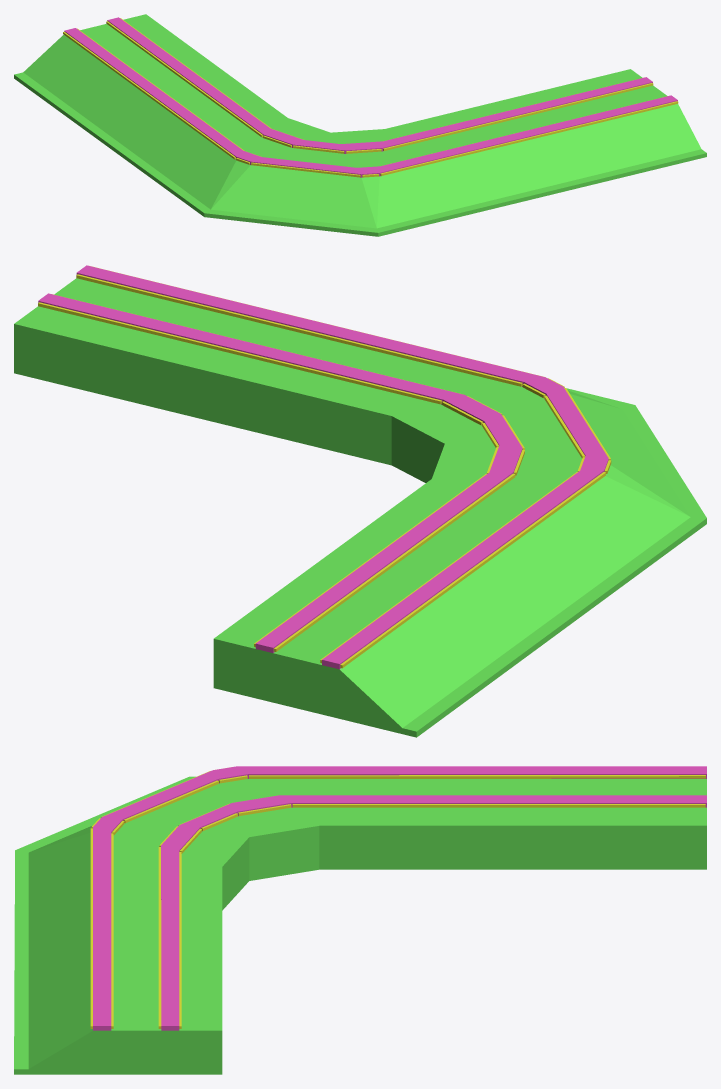
Rendered from Interior_Deco_01_Corner.fbx.
The picture shows the model from 3 angles, top to bottom: view 1: azimuth 30°, elevation 25°; view 2: azimuth 150°, elevation 25°; view 3: azimuth 270°, elevation 25°; orthographic projection. The views are drawn at different scales.
Visible parts, largest first — view 1: Interior_Deco_01_Corner; view 2: Interior_Deco_01_Corner; view 3: Interior_Deco_01_Corner.
Part boxes in pixels (box(x1,y1,x2,y2)): Interior_Deco_01_Corner: box(14, 14, 706, 236); Interior_Deco_01_Corner: box(14, 265, 706, 737); Interior_Deco_01_Corner: box(14, 766, 706, 1074).
Size of what is drawn, in the model's own units: 654 by 50.68 by 654.
